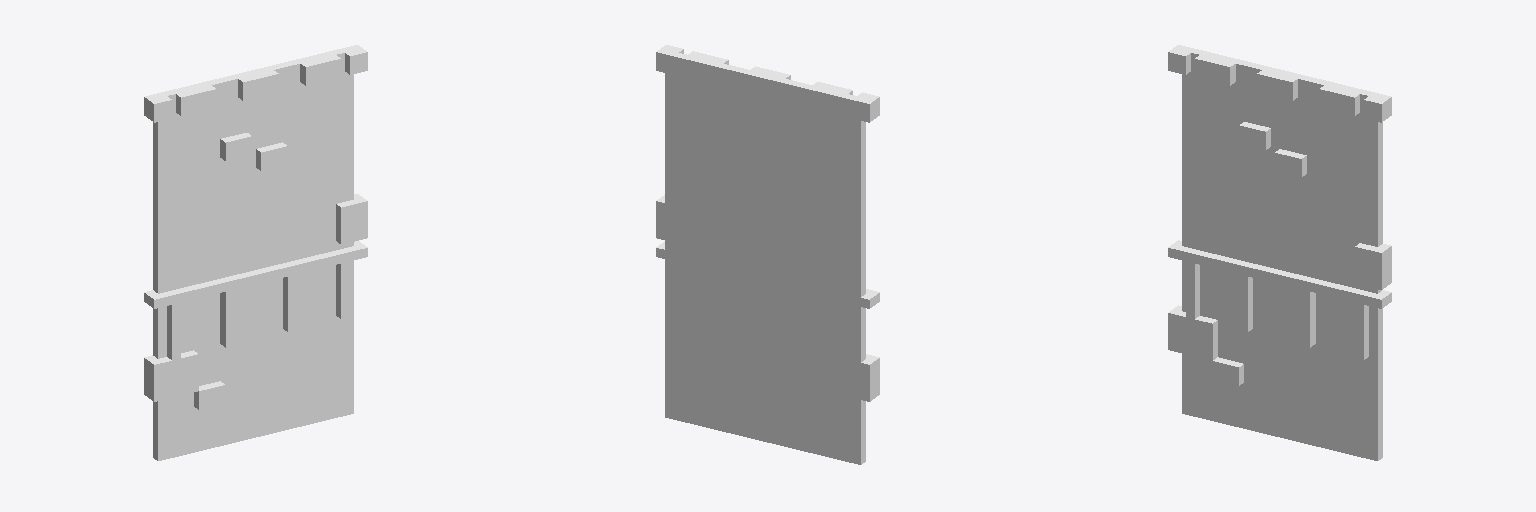
Rendered from SmallBuilding01-4.obj.
3 renders of one model, left to right at view 1: azimuth 30°, elevation 25°; view 2: azimuth 150°, elevation 25°; view 3: azimuth 330°, elevation 25°, orthographic.
Visible parts, largest first — view 1: object 1; view 2: object 1; view 3: object 1.
Boxes of the visible parts, <box> form: object 1: <box>144,45,367,460</box>; object 1: <box>656,45,879,464</box>; object 1: <box>1168,45,1391,460</box>.
Size of the model in its own units: 2.4 by 3.9 by 0.2.